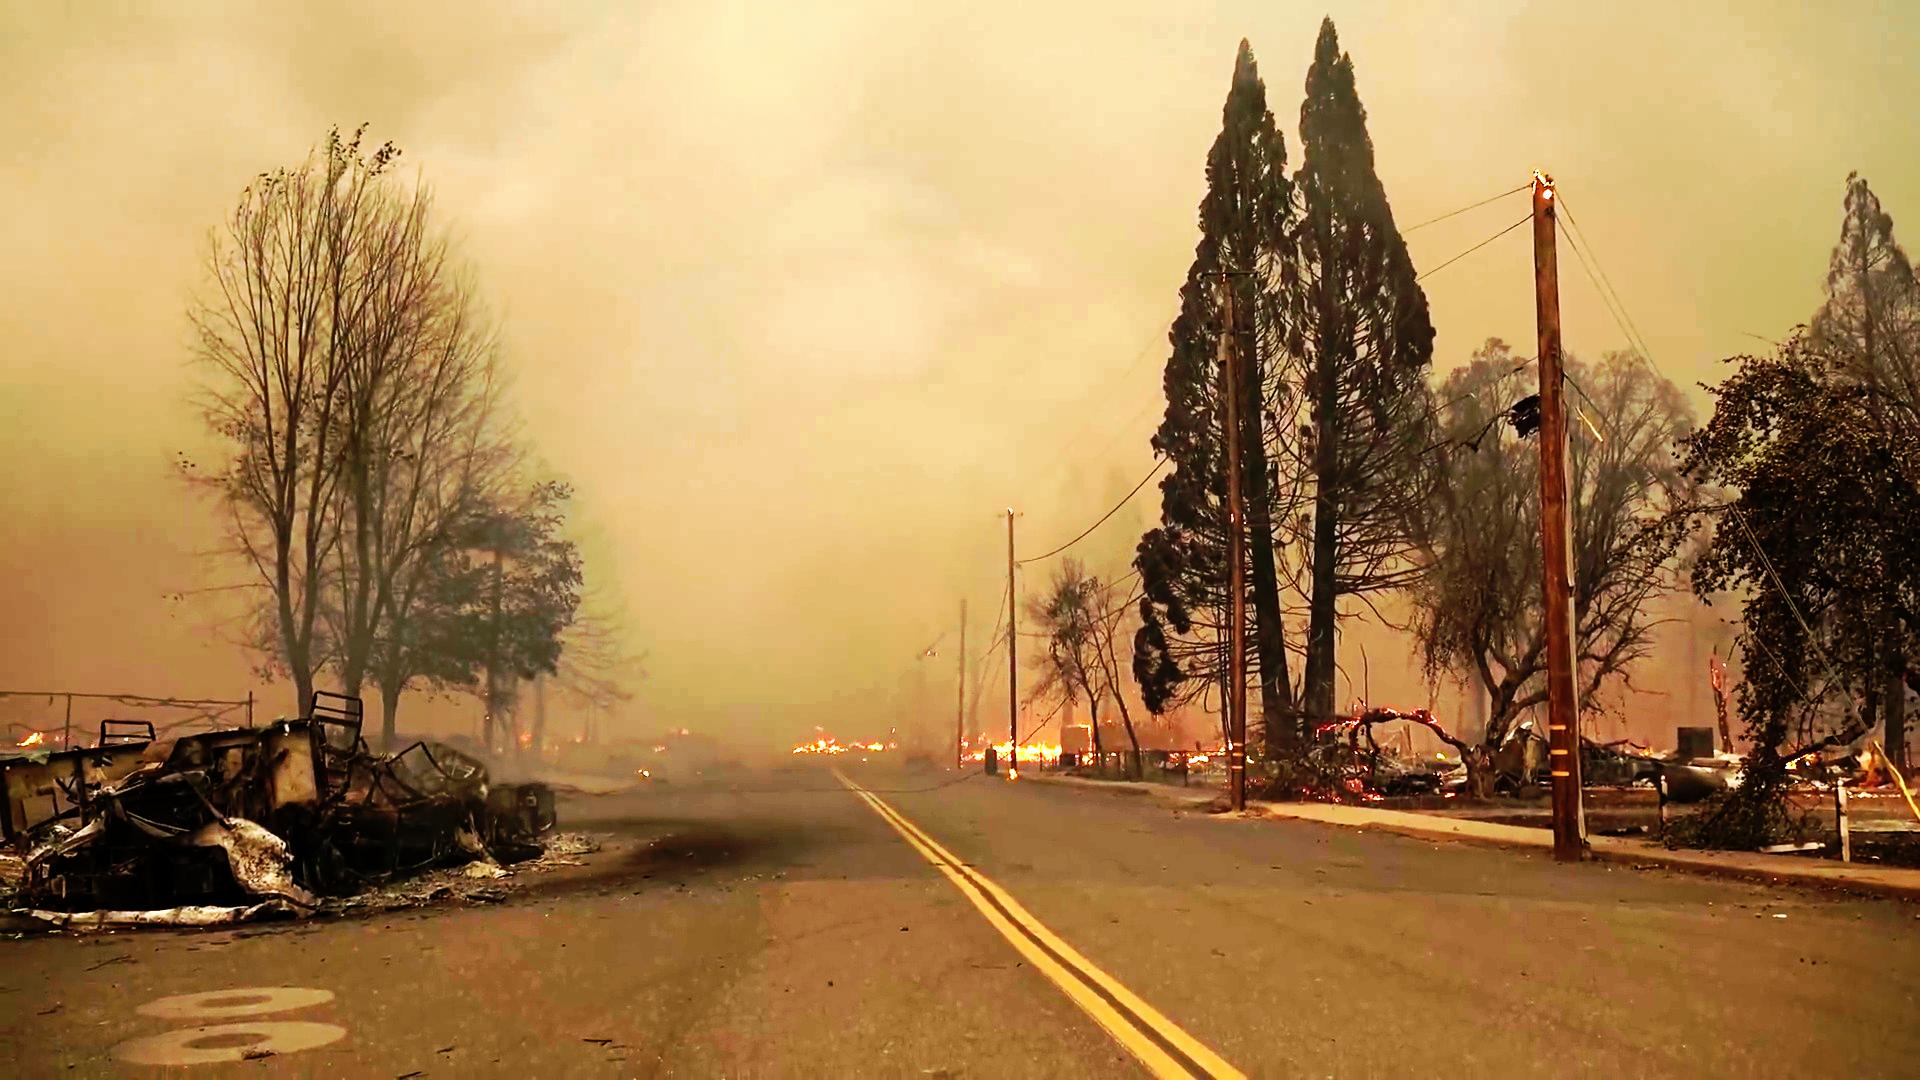smoke: (568, 33, 1015, 484)
